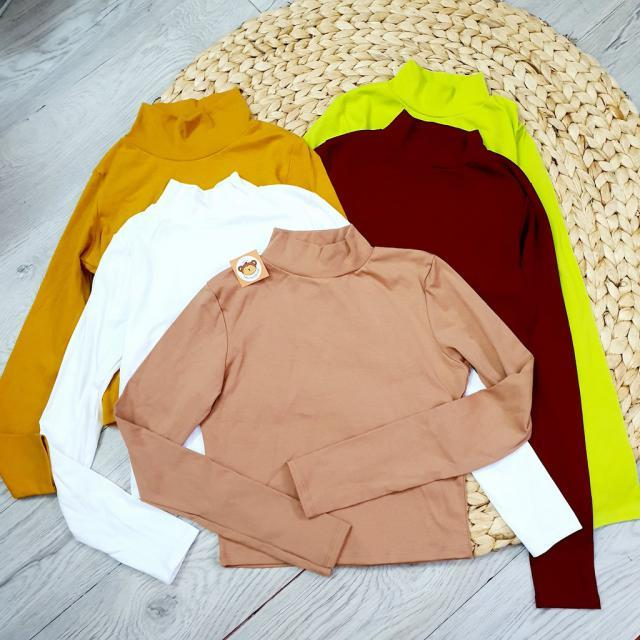Shirt: (124, 230, 532, 571)
